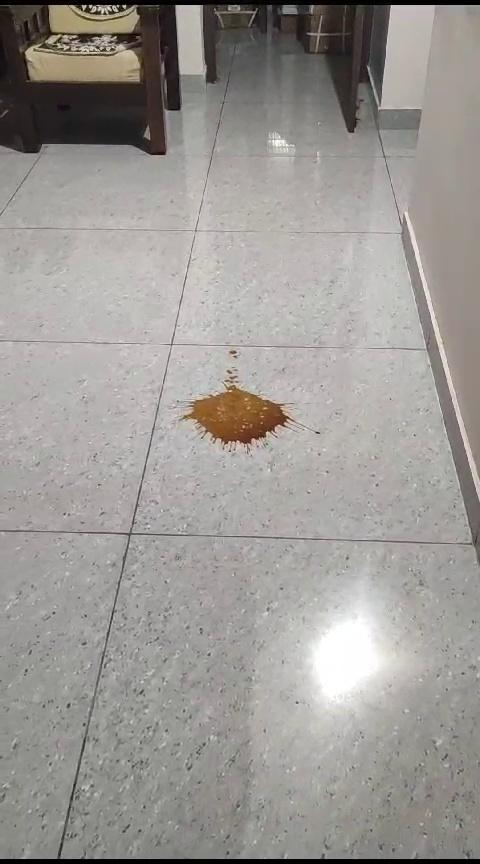dirty_floor: (173, 351, 315, 462)
